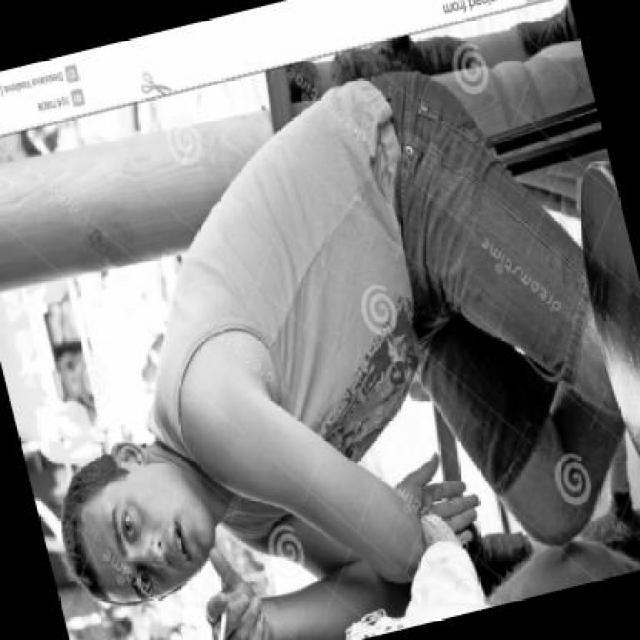smoke: (198, 591, 244, 640)
